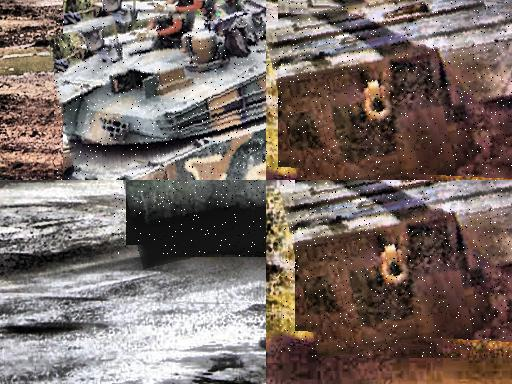tanks: (267, 1, 512, 181), (280, 181, 512, 358), (56, 1, 267, 181), (124, 181, 267, 257)
